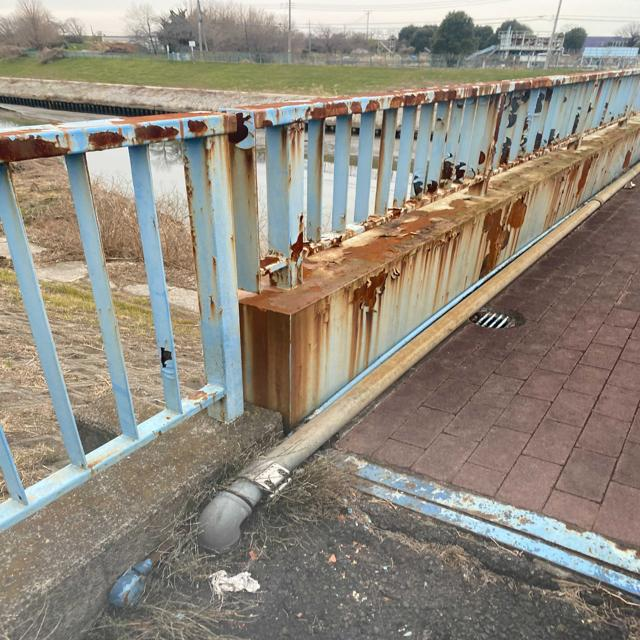corrosion: (12, 59, 514, 167), (276, 191, 523, 376)
